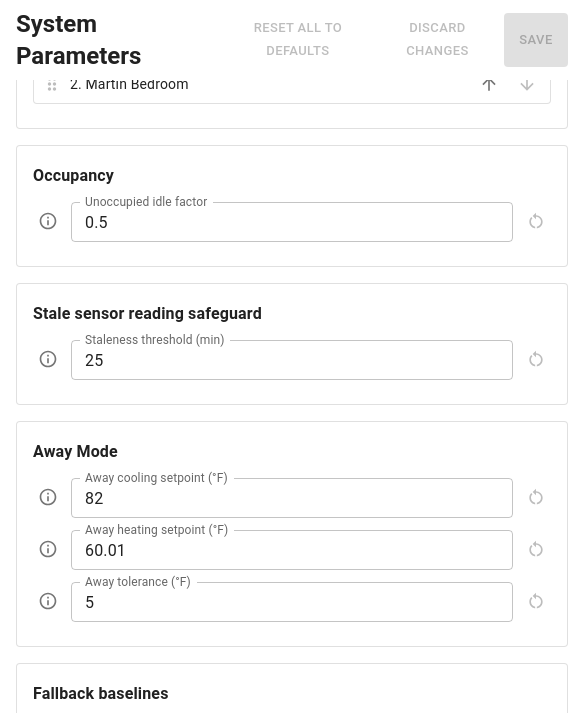
Test: SystemParametersPage › editing a field enables Save and its own reset button; Reset clears both
The width and height of the screenshot is (586, 713).
(page scrolled)
Replace the text in the number field labelled "Staleness threshold (min)" with "20": (292, 360) [71,340,513,380]
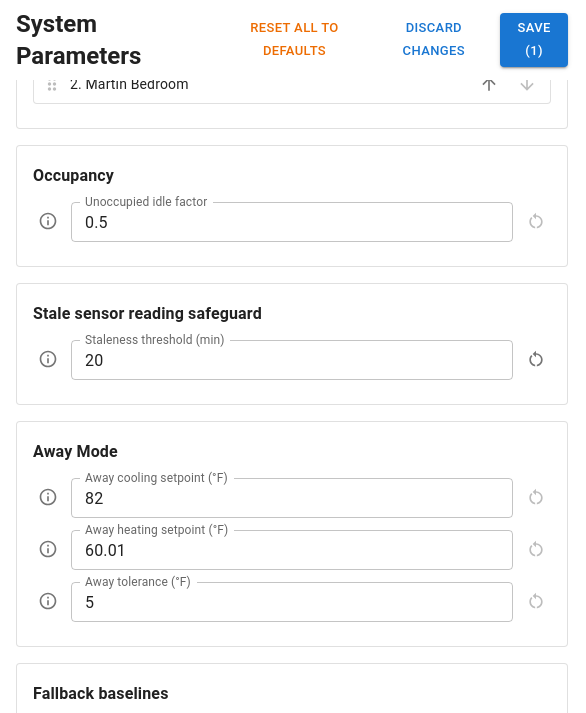
Expected: the button "Save (1)" is enabled, [500,13,568,67]
Expected: the button named "Reset Staleness threshold (min) to default" is enabled
Click the button named "Reset Staleness threshold (min) to default": click(536, 359) [521,344,551,374]
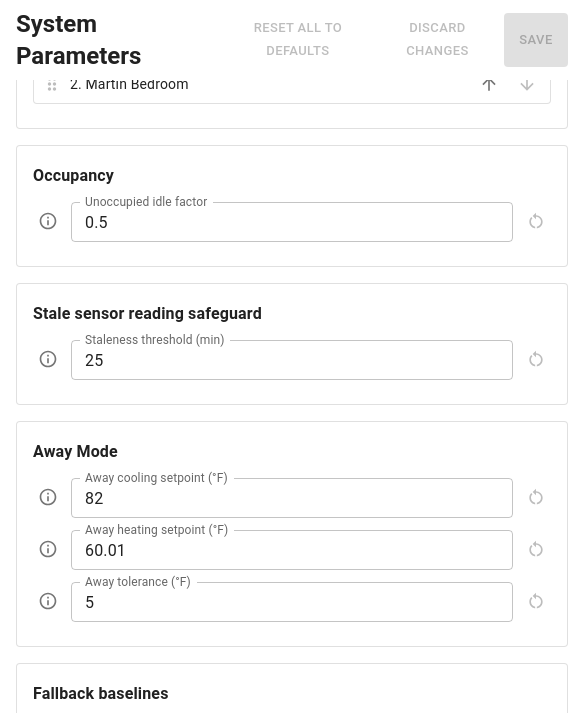
Expected: the number field labelled "Staleness threshold (min)" holds "25", [71,340,513,380]
Expected: the button "Save" is disabled, [504,13,568,67]
